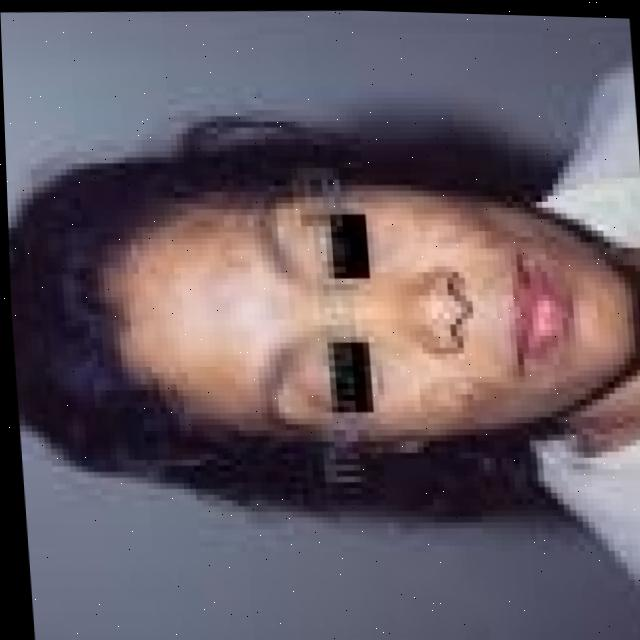Melasma: (410, 356, 527, 433), (398, 187, 527, 256), (169, 202, 268, 279), (204, 355, 253, 416)
